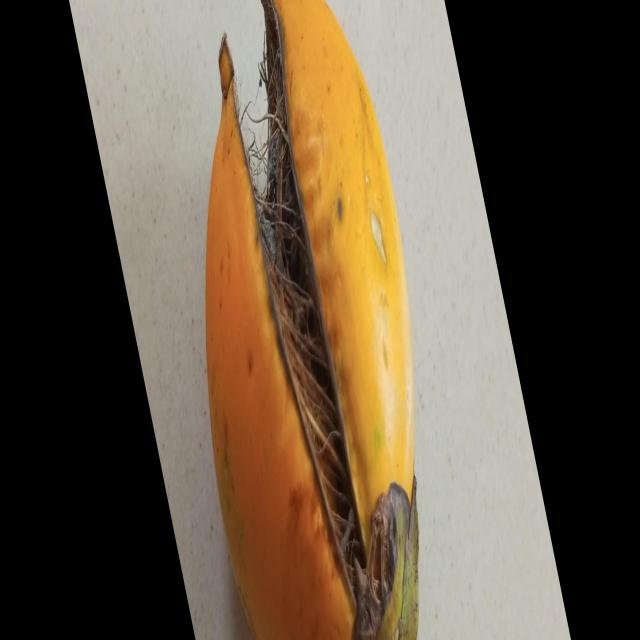damaged: (206, 0, 419, 640)
